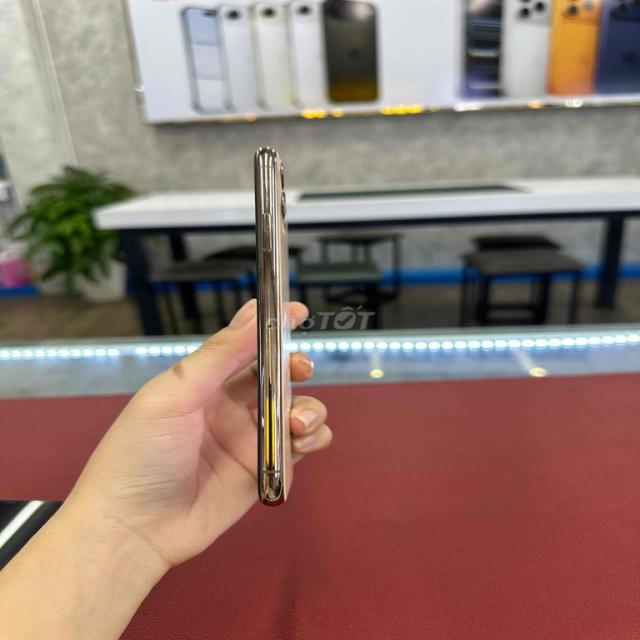gen_11: (233, 140, 312, 513)
